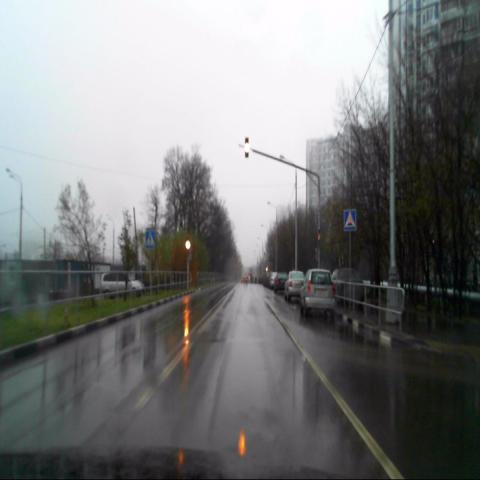5_19_1: (146, 230, 156, 248)
5_20: (343, 208, 356, 230)
